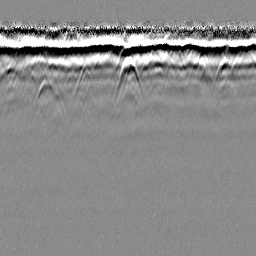cavity: (113, 56, 145, 106)
